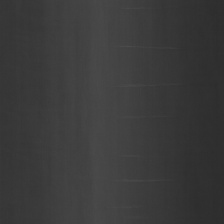waist_folding: (100, 10, 183, 198)
